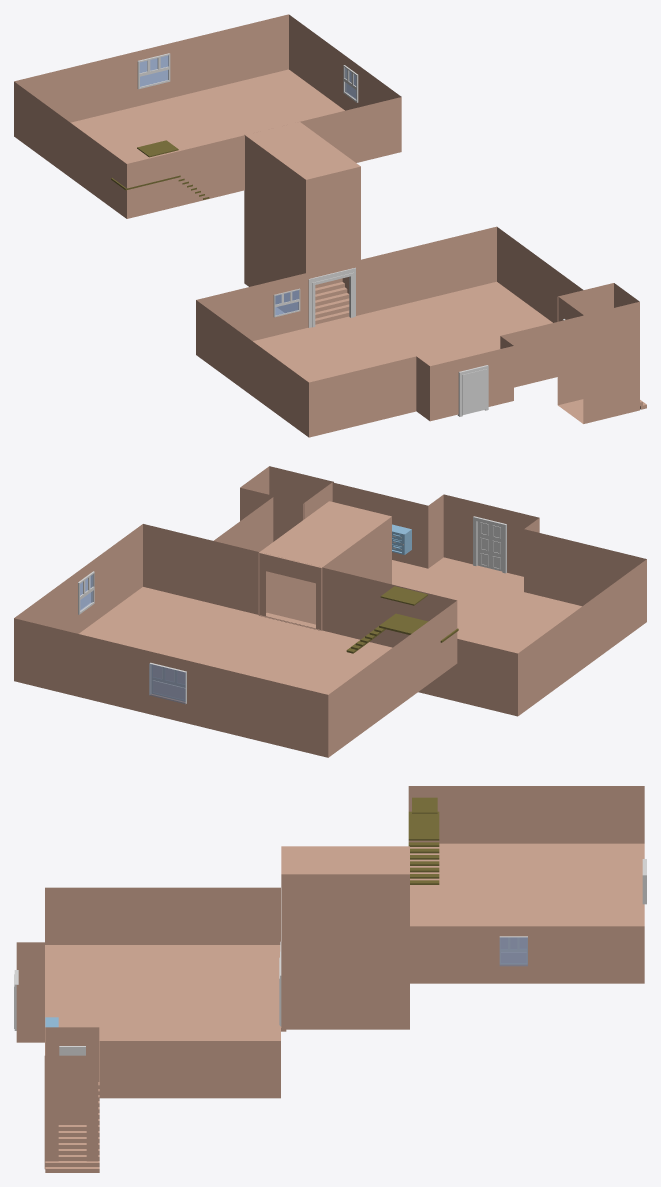
File: structure_maison_complete.fbx
The picture shows the model from 3 angles, top to bottom: view 1: azimuth 30°, elevation 25°; view 2: azimuth 150°, elevation 25°; view 3: azimuth 270°, elevation 25°; orthographic projection. The views are drawn at different scales.
Visible parts, largest first — view 1: RDC, Etage1, RDC_cage_escalier_etage, RDC_cage_escalier_soussol, escalier_RDC_vers_etage, Porte_entrée.002, fenetre.005, fenetre.006, porte_cadre.003; view 2: Etage1, RDC, RDC_cage_escalier_etage, RDC_cage_escalier_soussol, fenetre.005, Porte_entrée.002, Etage1_escalier_grenier, porte_cadre.002, fenetre.004, Chambre_enfant.001, bal, Plane; view 3: RDC, Etage1, RDC_cage_escalier_etage, RDC_cage_escalier_soussol, Etage1_escalier_grenier, RDC_escalier_sous-sol, Plane, fenetre.004.
Part boxes in pixels (<box>): RDC: <box>196,226,583,437</box>; Etage1: <box>14,14,401,218</box>; RDC_cage_escalier_etage: <box>244,121,360,312</box>; RDC_cage_escalier_soussol: <box>557,283,639,423</box>; escalier_RDC_vers_etage: <box>315,278,349,325</box>; Porte_entrée.002: <box>462,369,486,414</box>; fenetre.005: <box>137,53,170,89</box>; fenetre.006: <box>273,288,300,317</box>; porte_cadre.003: <box>308,267,355,327</box>; Etage1: <box>14,524,457,757</box>; RDC: <box>213,482,646,716</box>; RDC_cage_escalier_etage: <box>258,501,391,630</box>; RDC_cage_escalier_soussol: <box>240,466,333,541</box>; fenetre.005: <box>149,662,186,704</box>; Porte_entrée.002: <box>477,521,502,571</box>; Etage1_escalier_grenier: <box>346,613,458,653</box>; porte_cadre.002: <box>473,516,506,573</box>; fenetre.004: <box>78,571,94,614</box>; Chambre_enfant.001: <box>380,586,427,605</box>; bal: <box>392,524,411,554</box>; Plane: <box>303,482,332,519</box>; RDC: <box>16,887,280,1098</box>; Etage1: <box>408,786,644,983</box>; RDC_cage_escalier_etage: <box>281,846,409,1029</box>; RDC_cage_escalier_soussol: <box>44,1055,98,1168</box>; Etage1_escalier_grenier: <box>408,811,439,884</box>; RDC_escalier_sous-sol: <box>45,1082,99,1172</box>; Plane: <box>45,1027,99,1081</box>; fenetre.004: <box>499,936,527,966</box>.
Bounding box in the file's own units: 2310 × 1284 × 3489.
